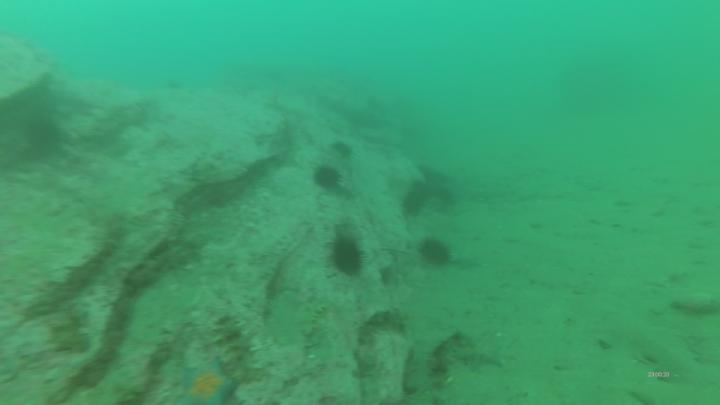echinus: (335, 238, 361, 277), (420, 236, 450, 266), (318, 168, 340, 189), (404, 194, 424, 214)
holothurian: (212, 316, 258, 382), (301, 305, 331, 338)
starfish: (178, 364, 236, 405), (458, 340, 504, 372), (675, 291, 719, 318)
